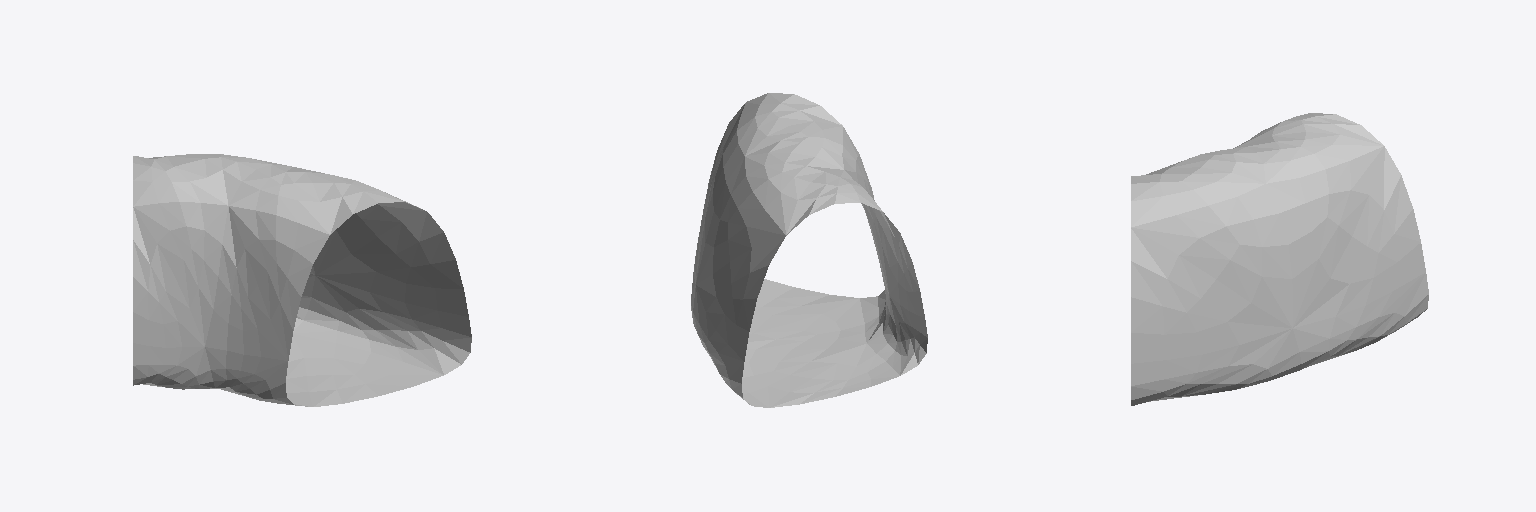
File: cave_602_0.obj
3 renders of one model, left to right at view 1: azimuth 30°, elevation 25°; view 2: azimuth 150°, elevation 25°; view 3: azimuth 270°, elevation 25°, orthographic.
Parts seen in each view (by area): view 1: cave_602_0_Cube.012; view 2: cave_602_0_Cube.012; view 3: cave_602_0_Cube.012.
Boxes of the visible parts, <box> form: cave_602_0_Cube.012: <box>133,154,471,406</box>; cave_602_0_Cube.012: <box>691,93,927,407</box>; cave_602_0_Cube.012: <box>1131,113,1428,405</box>.
Size of the model in its own units: 8.91 by 5.91 by 8.14.